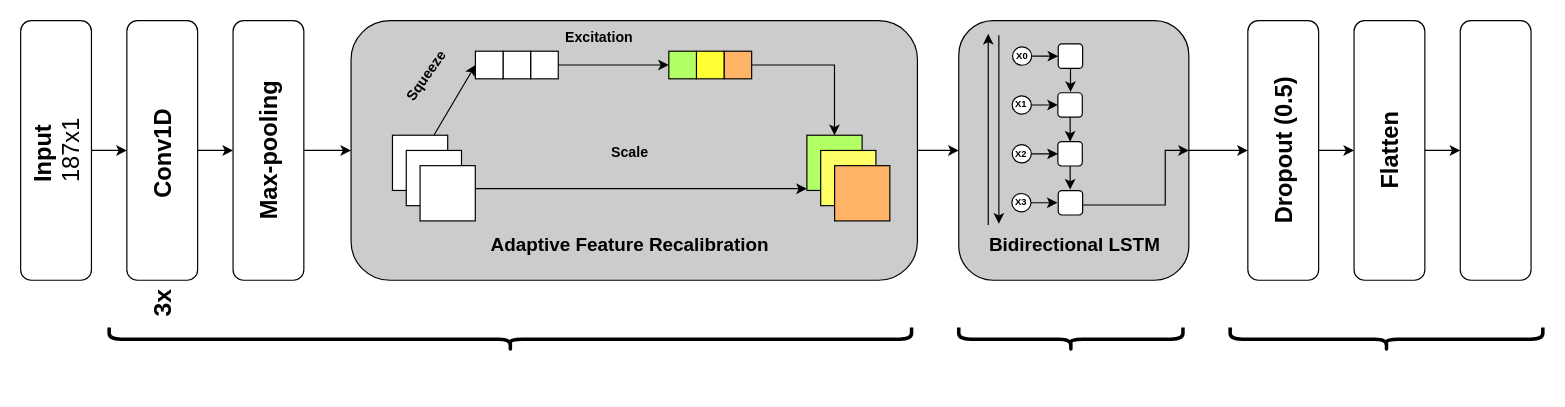
Image size: 1565x407. Some labels were removed from this diagram. The shapes that lost their labels are listed below. From the top down, each one's centre as x and y in pixels, then its label:
the point at 1495,149: Dense (5 class)
the point at 510,338: Feature Extraction
the point at 1070,338: Temporal Dependancy
the point at 1386,338: Classification
